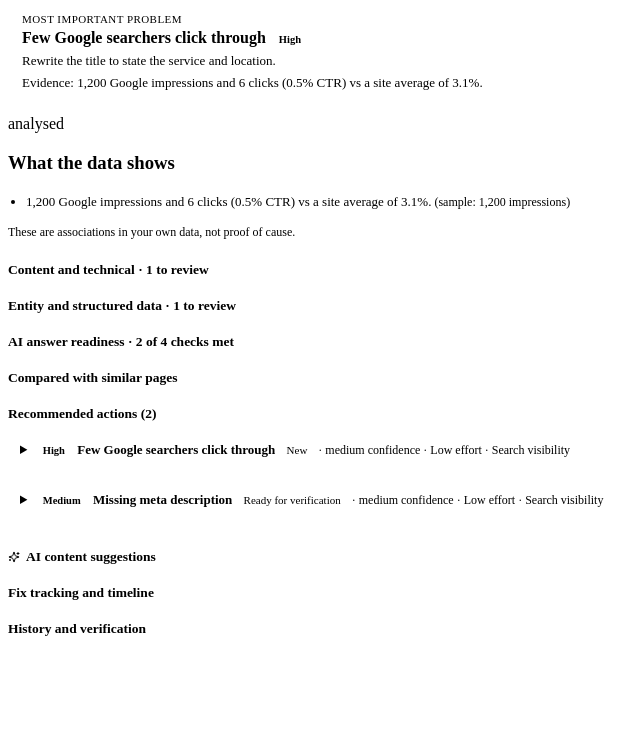
Test: analysis sections › recommendations carry evidence, change, example, needs, verification and the Action Center link
Click the text "Missing meta description". click: (163, 499)
box: [93, 492, 232, 507]
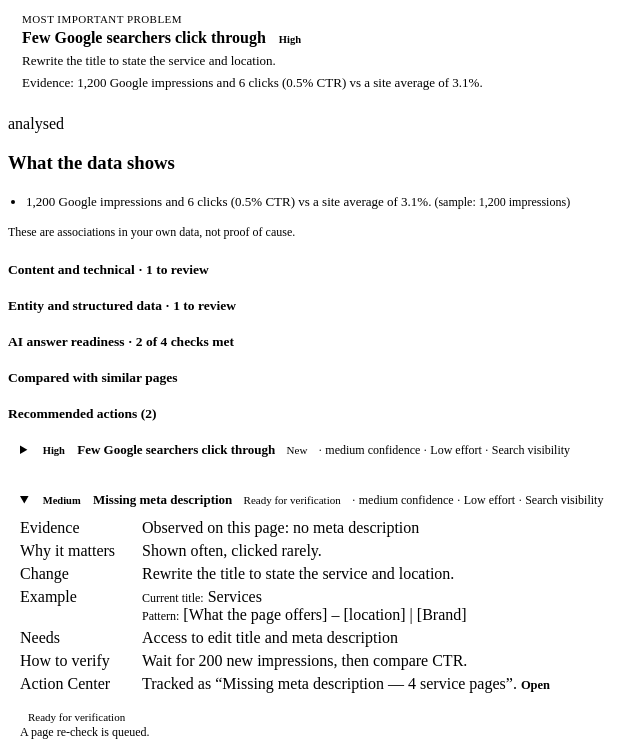
Expected: the 1st text "· medium confidence · Low effort · Search visibility" is shown, [315, 443, 570, 457]
Expected: the text "Observed on this page: no meta description" is shown, [142, 519, 419, 536]
Expected: the text "Tracked as “Missing meta description — 4 service pages”" is shown, [142, 675, 550, 692]
